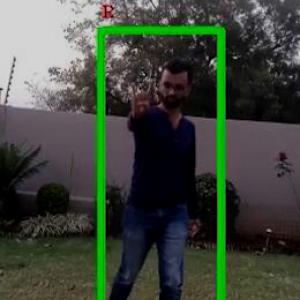takeoff-hand: (121, 75, 154, 123)
